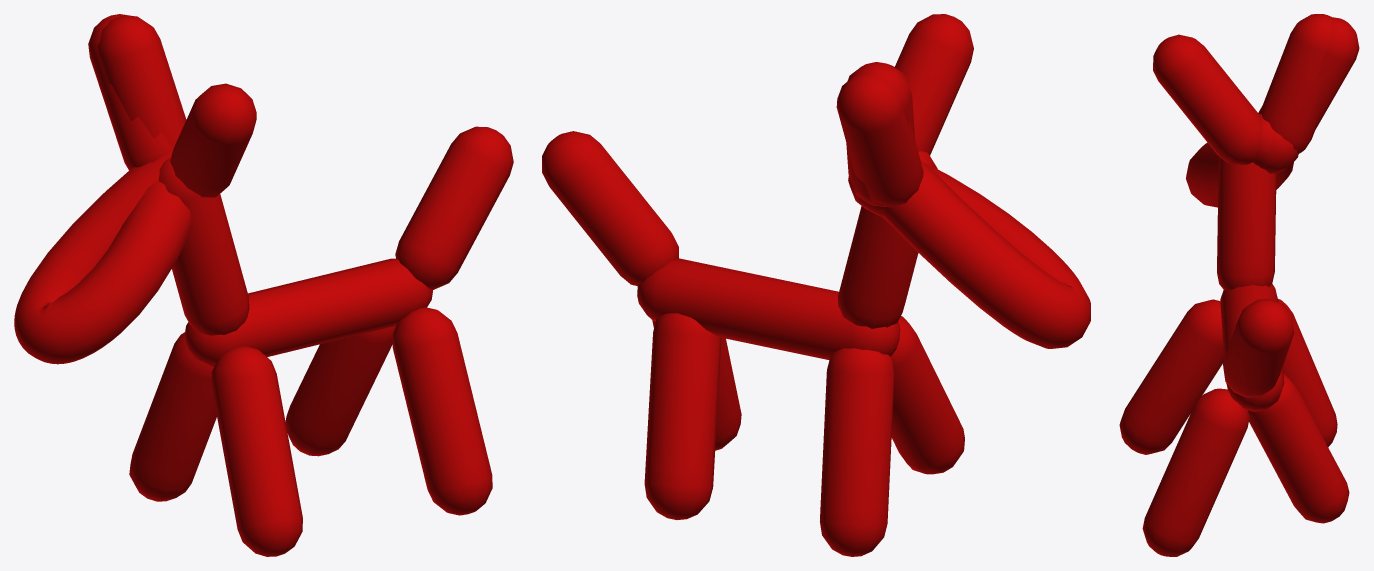
Rendered from dog.fbx.
The picture shows the model from 3 angles, left to right: view 1: azimuth 30°, elevation 25°; view 2: azimuth 150°, elevation 25°; view 3: azimuth 270°, elevation 25°; orthographic projection. The views are drawn at different scales.
Visible parts, largest first — view 1: s.0043, s.0039, s.0037, s.0029, s.0050, s.0036, s.0040, s.0038, s.0045, s.0049, s.0048; view 2: s.0043, s.0029, s.0036, s.0038, s.0050, s.0048, s.0039, s.0040, s.0049, s.0037, s.0045; view 3: s.0037, s.0039, s.0049, s.0038, s.0040, s.0045, s.0050, s.0043, s.0036, s.0029, s.0048.
Boxes of the visible parts, x1,y1,x2,y2 form: s.0043: (14, 144, 192, 364); s.0039: (211, 346, 302, 556); s.0037: (392, 307, 492, 515); s.0029: (184, 258, 432, 366); s.0050: (395, 126, 513, 289); s.0036: (129, 332, 216, 501); s.0040: (158, 158, 249, 335); s.0038: (285, 326, 395, 456); s.0045: (97, 15, 186, 146); s.0049: (170, 83, 256, 197); s.0048: (88, 14, 171, 170); s.0043: (848, 160, 1090, 348); s.0029: (637, 258, 900, 359); s.0036: (820, 348, 894, 556); s.0038: (644, 313, 721, 519); s.0050: (542, 131, 678, 286); s.0048: (836, 74, 923, 207); s.0039: (891, 316, 964, 474); s.0040: (838, 151, 937, 328); s.0049: (895, 14, 973, 155); s.0037: (652, 320, 741, 450); s.0045: (846, 62, 915, 206); s.0037: (1142, 388, 1249, 556); s.0039: (1119, 299, 1224, 454); s.0049: (1153, 34, 1262, 164); s.0038: (1248, 373, 1349, 523); s.0040: (1217, 156, 1276, 290); s.0045: (1259, 14, 1332, 153); s.0050: (1223, 299, 1294, 397); s.0043: (1186, 114, 1298, 207); s.0036: (1278, 299, 1337, 447); s.0029: (1220, 284, 1284, 411); s.0048: (1258, 17, 1359, 129).
Bounding box in the file's own units: 0.4111 × 0.384 × 0.1933.
